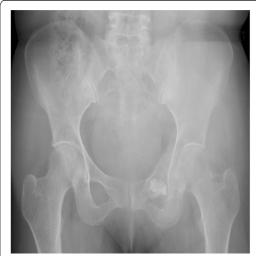cancer: (148, 135, 179, 200)
